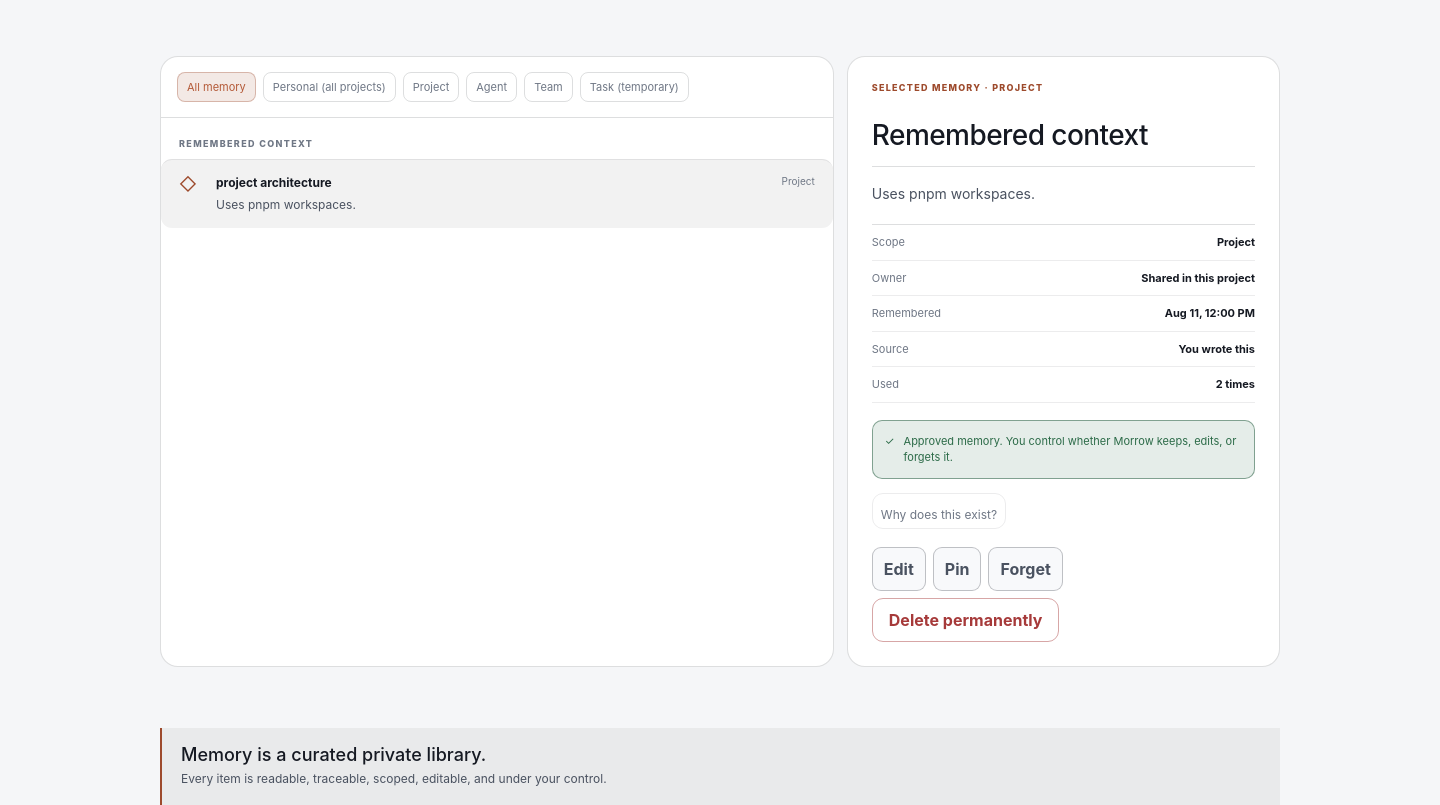
Memory page › lets the user correct a learned memory in place
(page scrolled)
Click the button "Edit". click: (899, 568)
box: [872,546,926,590]
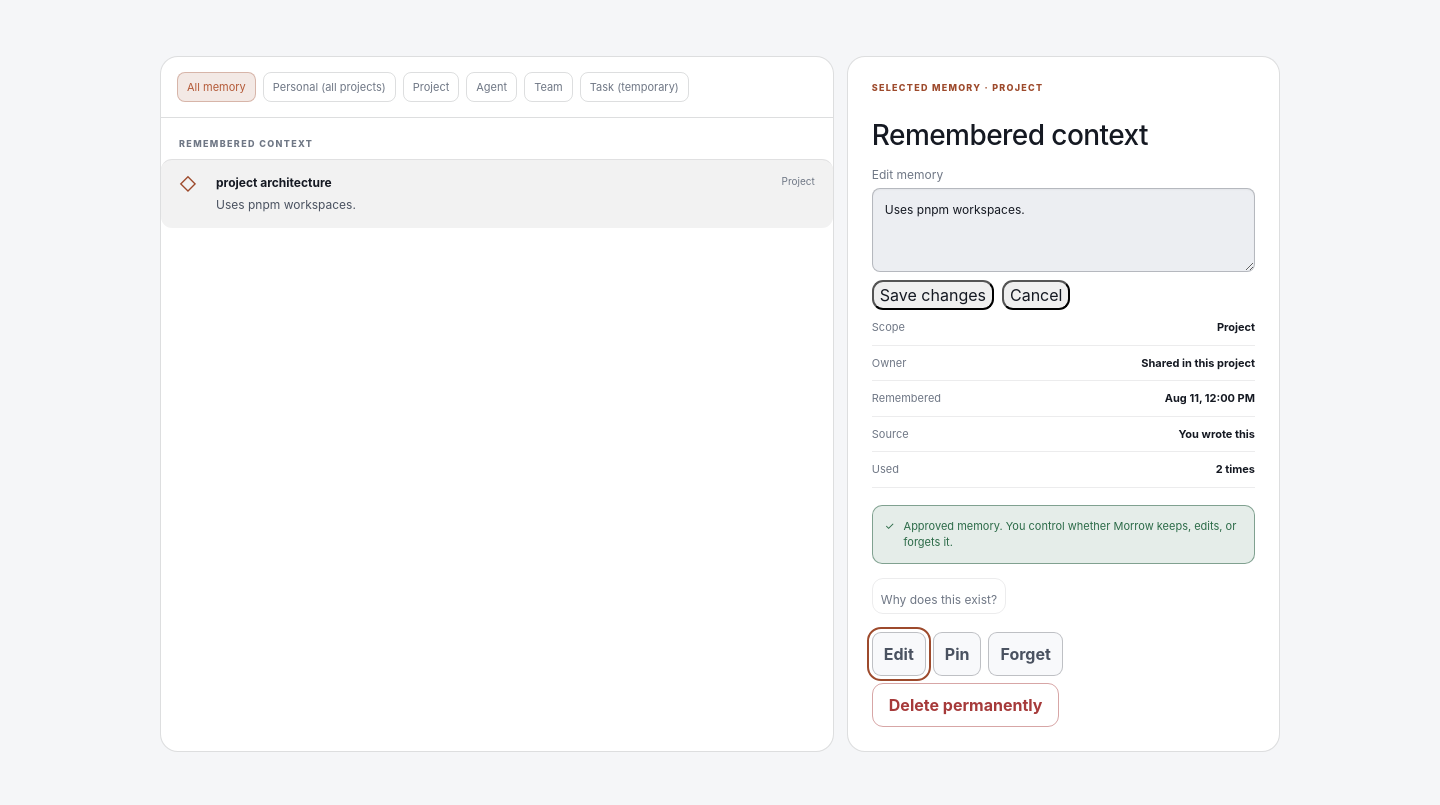
Replace the text in the text box labelled "Edit memory" with "Uses pnpm and Turborepo.". click: (1063, 230)
box: [872,188,1255,272]
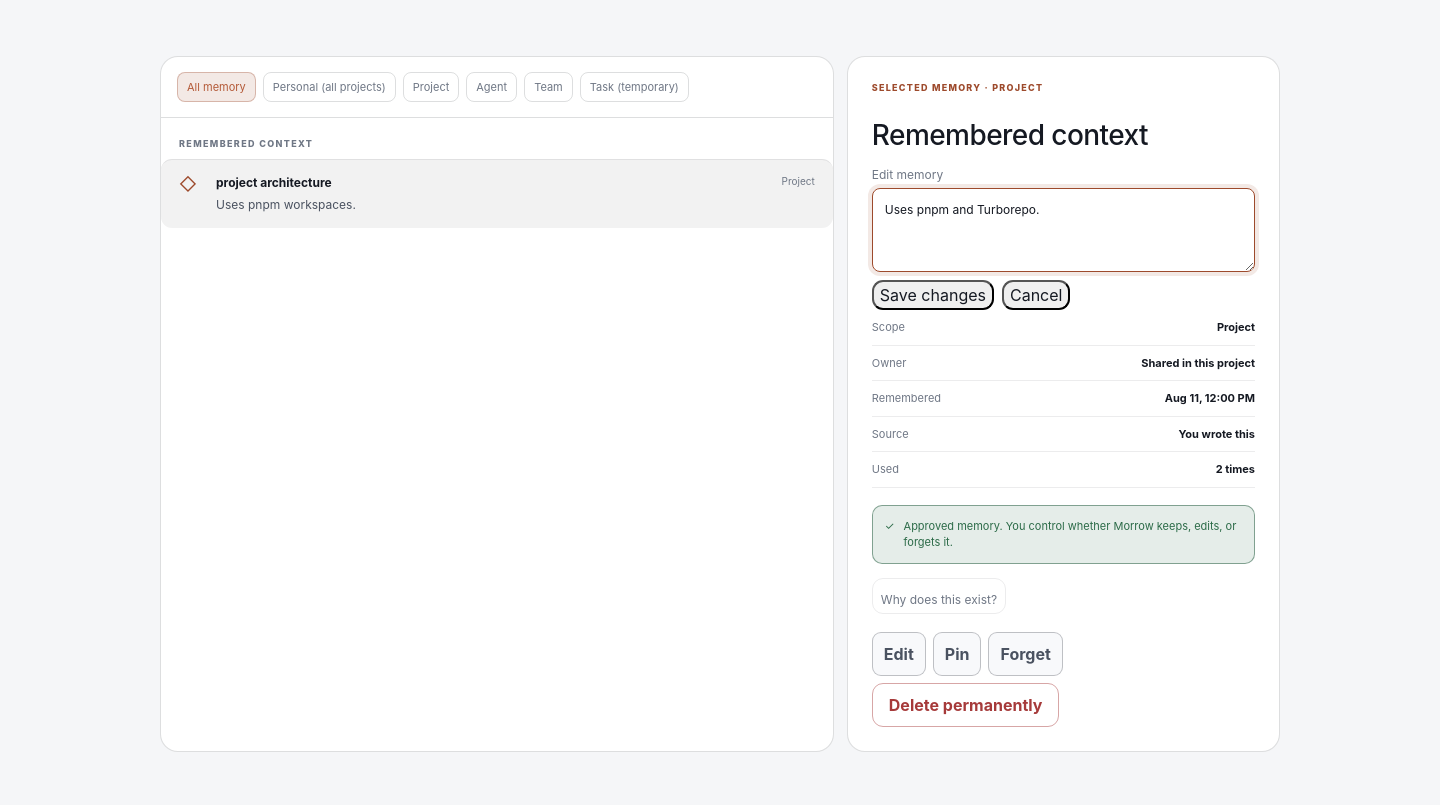
Click the button "Save changes". click: (933, 295)
box: [872,280,994,310]
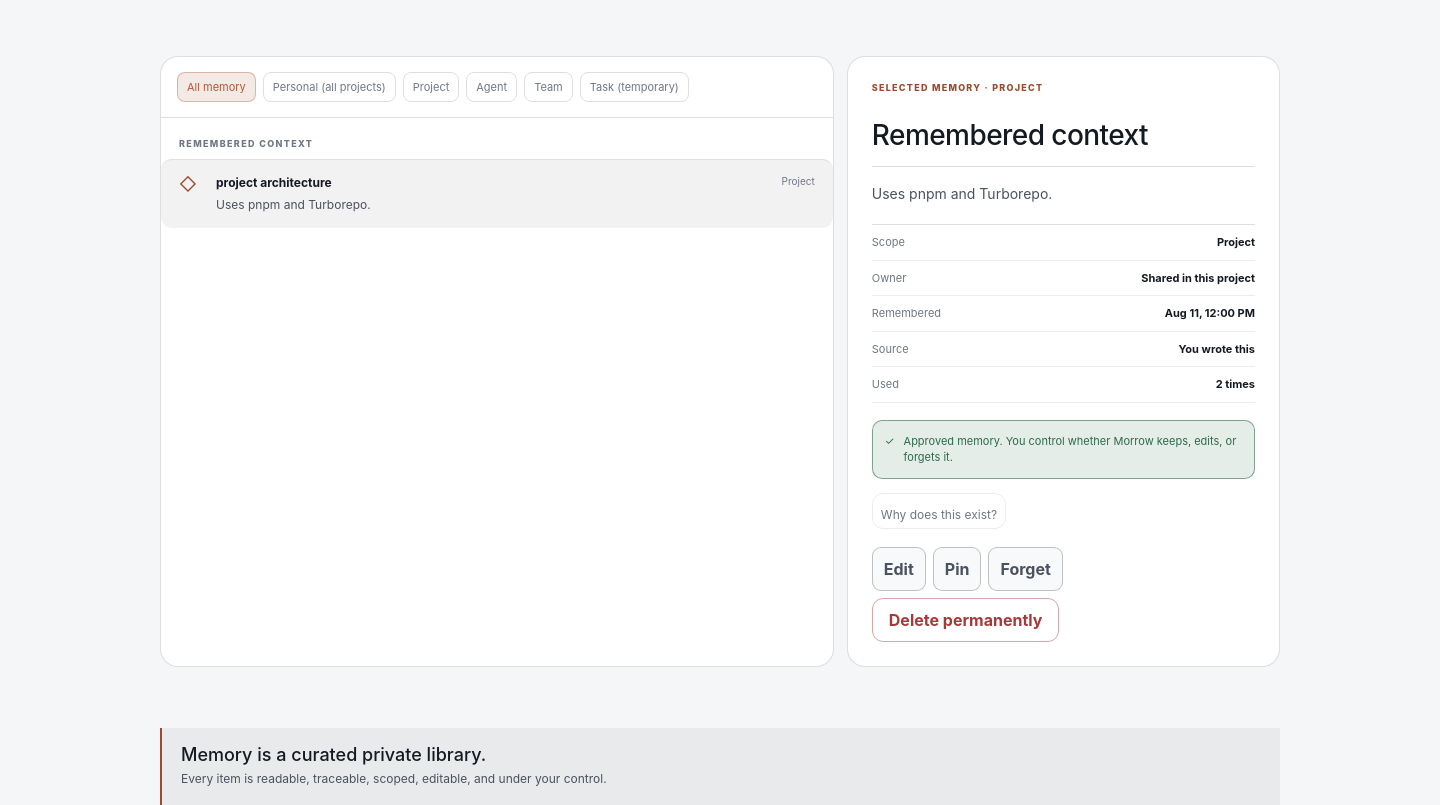
Expected: the 2nd text "Uses pnpm and Turborepo." is shown, [216,197,371,212]
